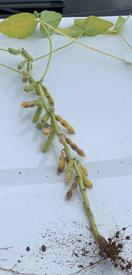soja: (67, 136, 88, 157), (40, 134, 62, 154), (41, 88, 61, 107), (57, 115, 76, 135), (81, 173, 98, 192), (53, 154, 67, 177), (18, 99, 45, 109), (32, 105, 44, 127), (66, 180, 77, 204), (65, 160, 75, 185), (20, 47, 36, 62), (79, 163, 95, 175), (23, 83, 37, 94), (32, 123, 49, 132), (16, 59, 27, 72), (42, 129, 56, 139), (42, 114, 53, 125), (8, 48, 19, 55), (20, 77, 28, 84)
